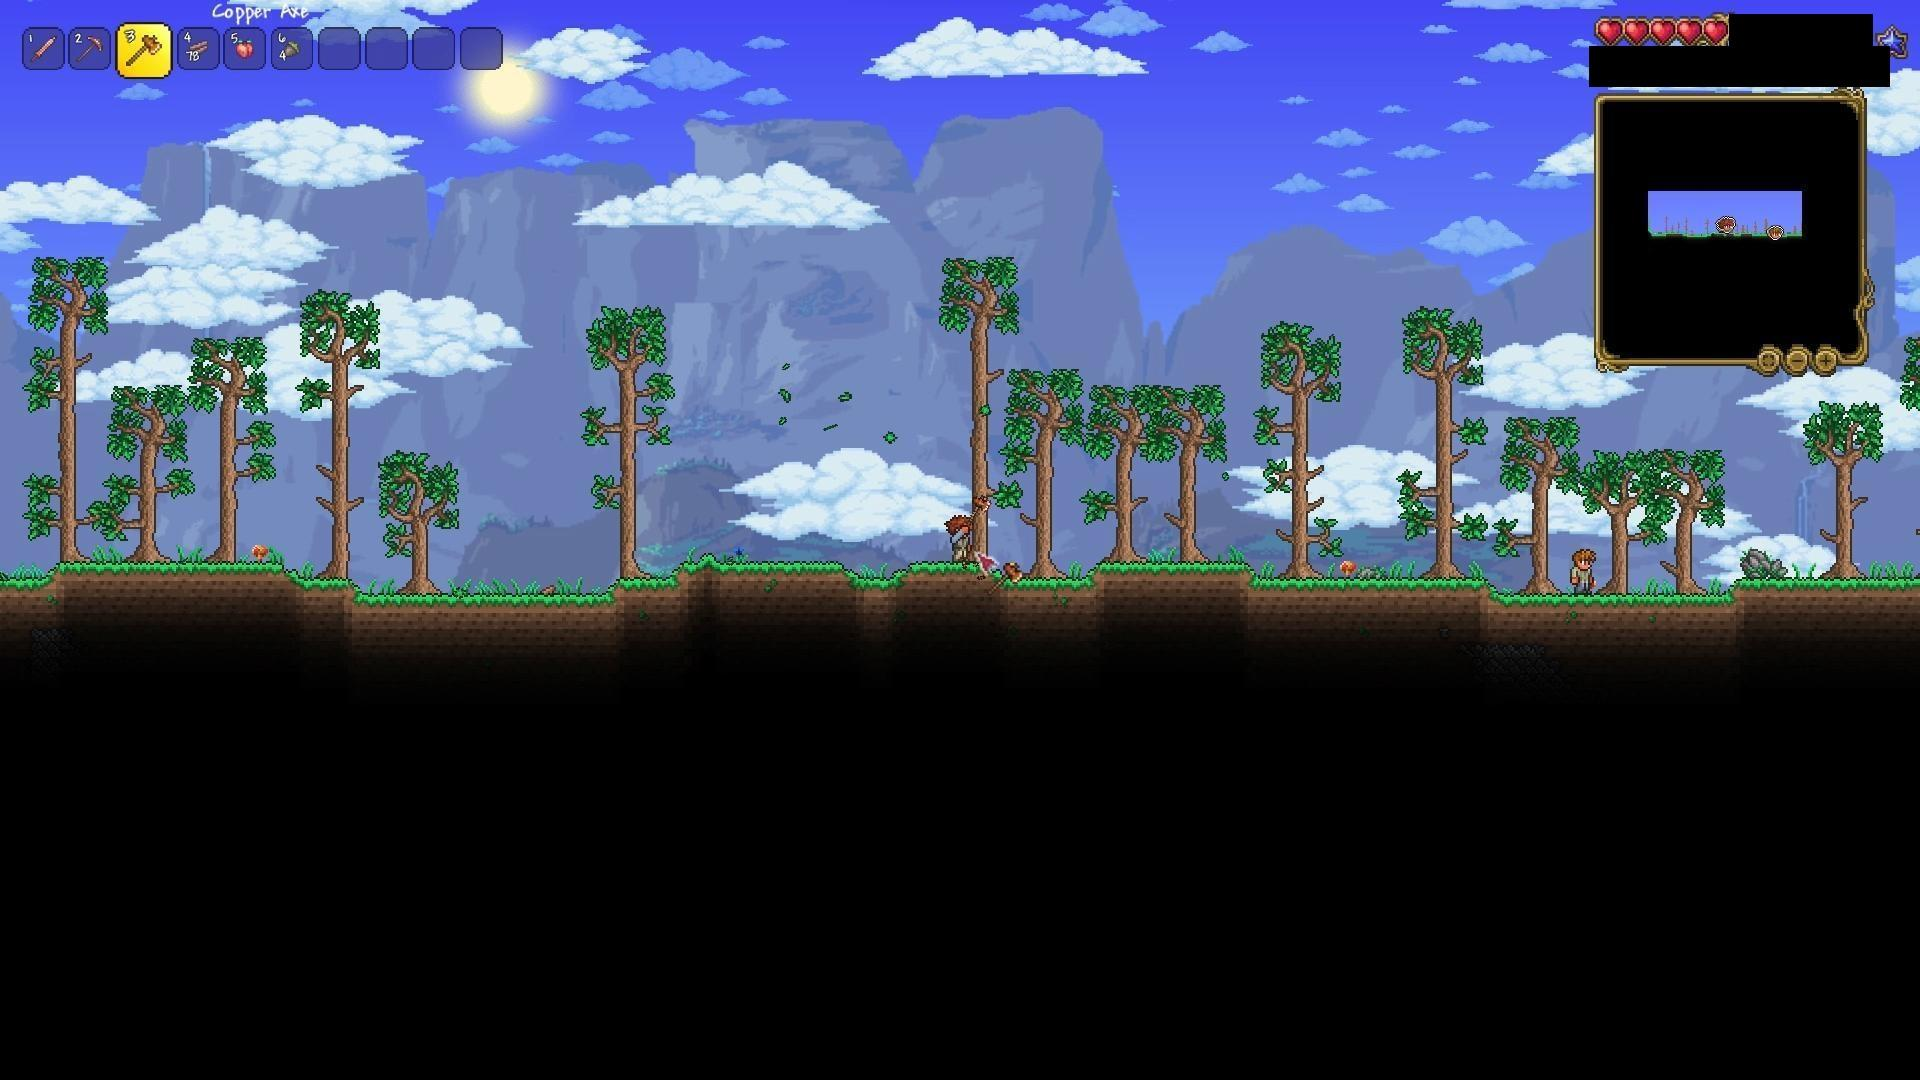dirt: (0, 560, 680, 617), (1462, 580, 1750, 628), (1240, 575, 1502, 615), (1725, 564, 1920, 615), (1087, 555, 1258, 600), (670, 555, 848, 597), (891, 555, 1009, 600), (982, 574, 1095, 605), (840, 571, 909, 596)
heart: (1702, 17, 1733, 51), (1593, 16, 1626, 46), (1676, 15, 1704, 50), (1650, 16, 1676, 49), (1625, 15, 1651, 44)
tree: (582, 302, 655, 582), (32, 248, 95, 560), (942, 233, 1000, 568), (1408, 303, 1478, 575), (1004, 367, 1081, 585), (302, 295, 361, 578), (1269, 320, 1320, 600), (1497, 409, 1567, 599), (196, 343, 255, 559), (1808, 390, 1874, 580), (1168, 375, 1233, 560), (384, 444, 454, 595), (1589, 434, 1647, 601), (120, 372, 170, 559), (1665, 444, 1727, 592), (1098, 380, 1143, 558)
